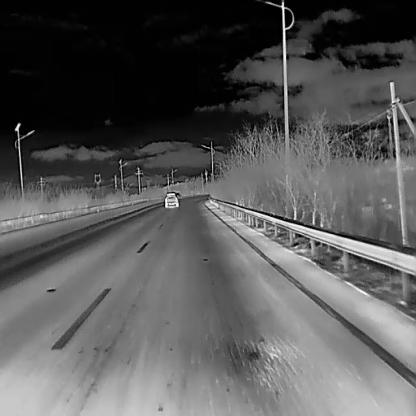car: (163, 192, 178, 208)
